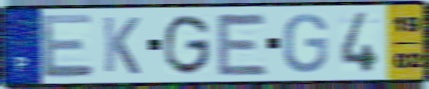4: (339, 11, 382, 76)
E: (39, 12, 96, 81), (214, 11, 272, 78)
G: (162, 13, 213, 78), (281, 12, 330, 75)
K: (101, 14, 143, 76)
